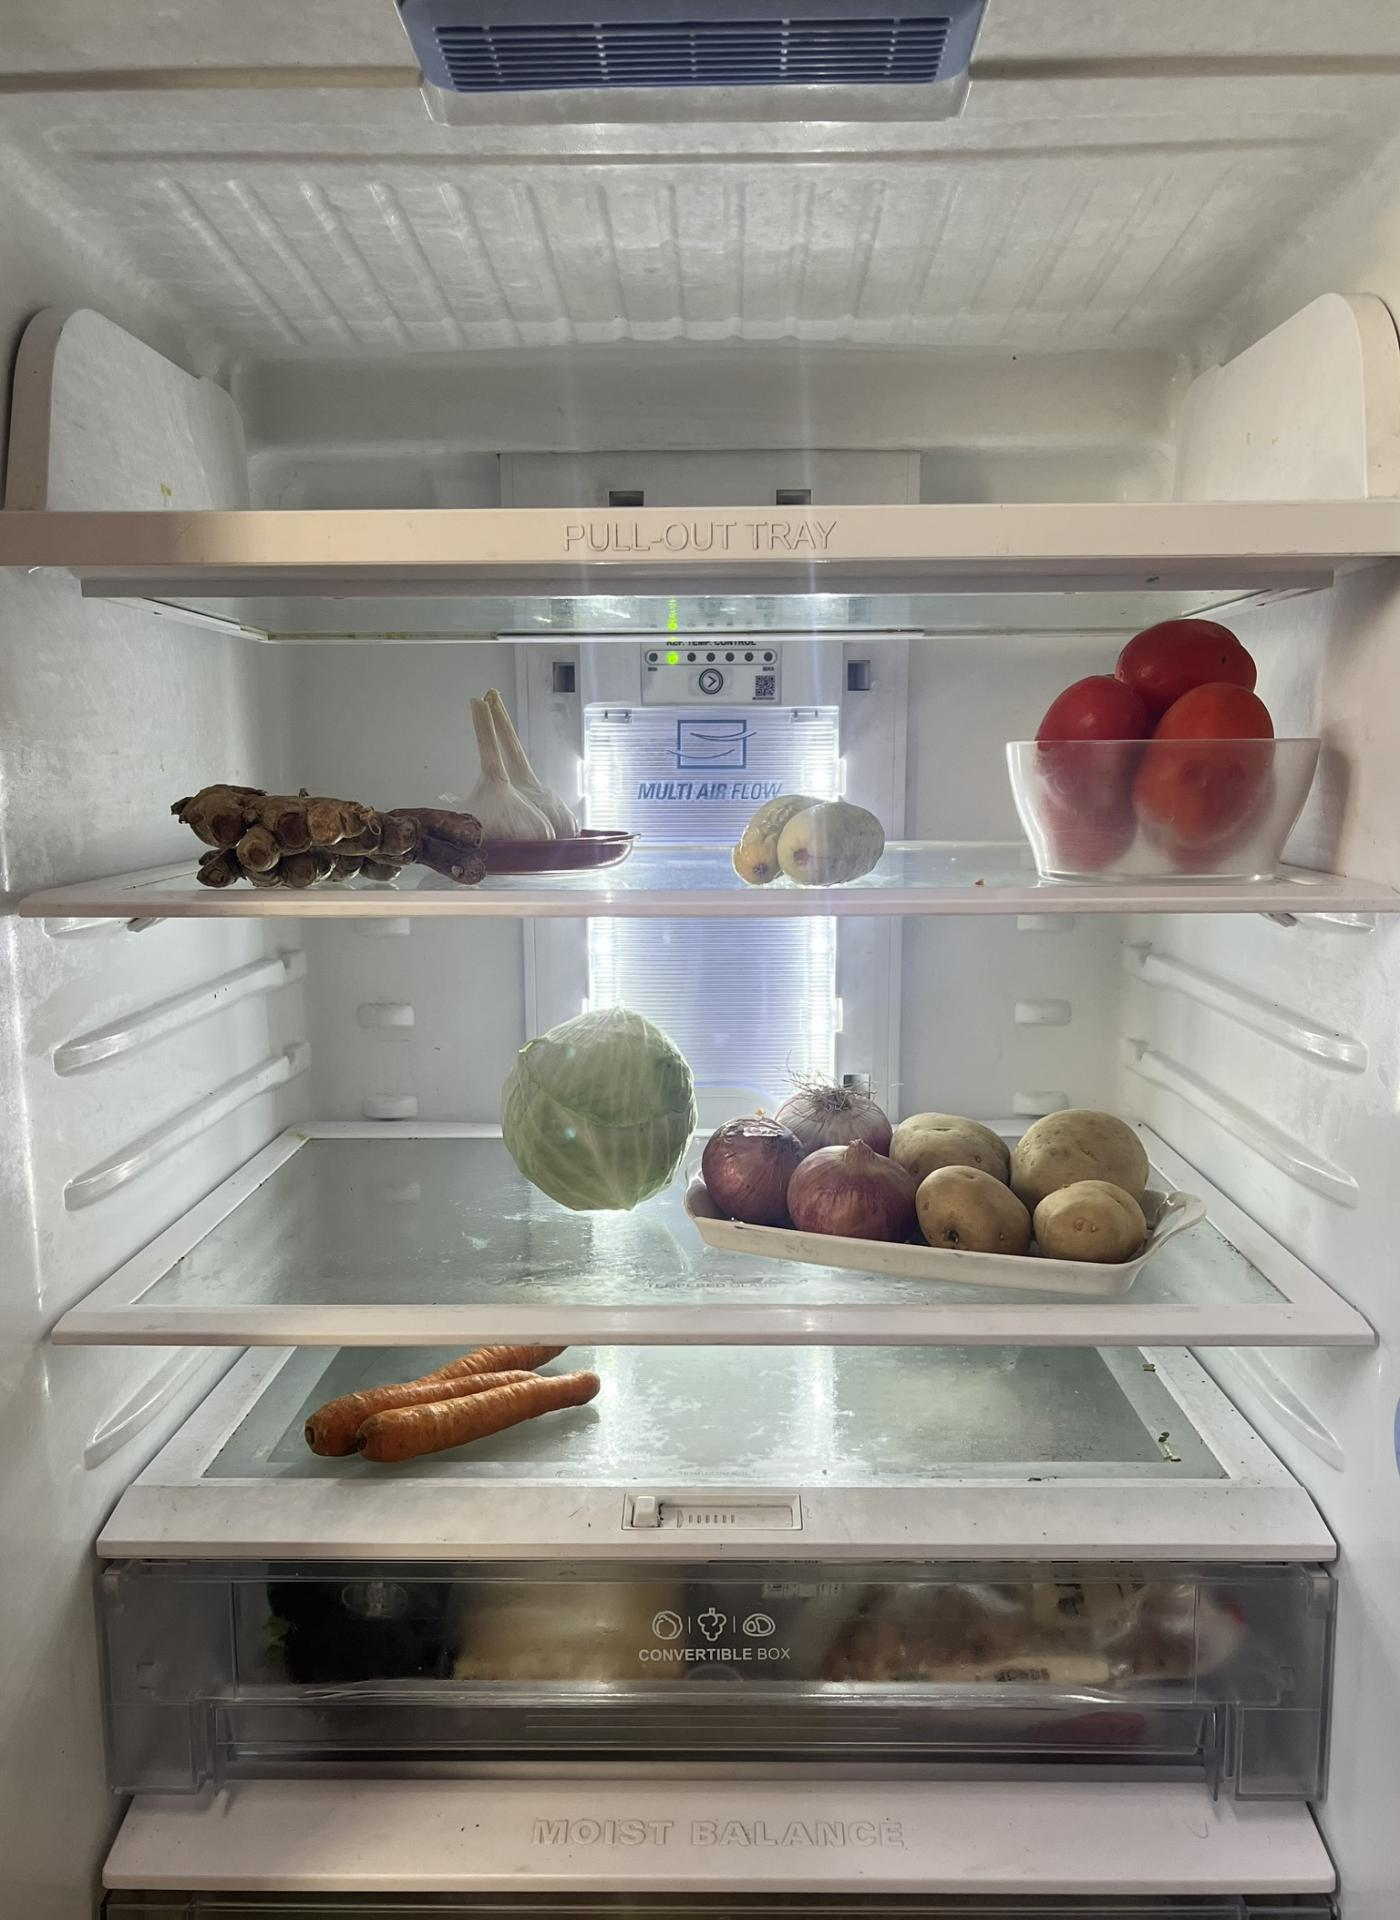cabbage: (502, 1014, 696, 1215)
carrots: (312, 1337, 602, 1459)
cucumber: (735, 784, 901, 896)
garlic: (471, 705, 578, 853)
ginger: (174, 780, 494, 890)
onion: (699, 1061, 921, 1240)
potato: (895, 1103, 1155, 1263)
tomato: (1041, 616, 1270, 877)
